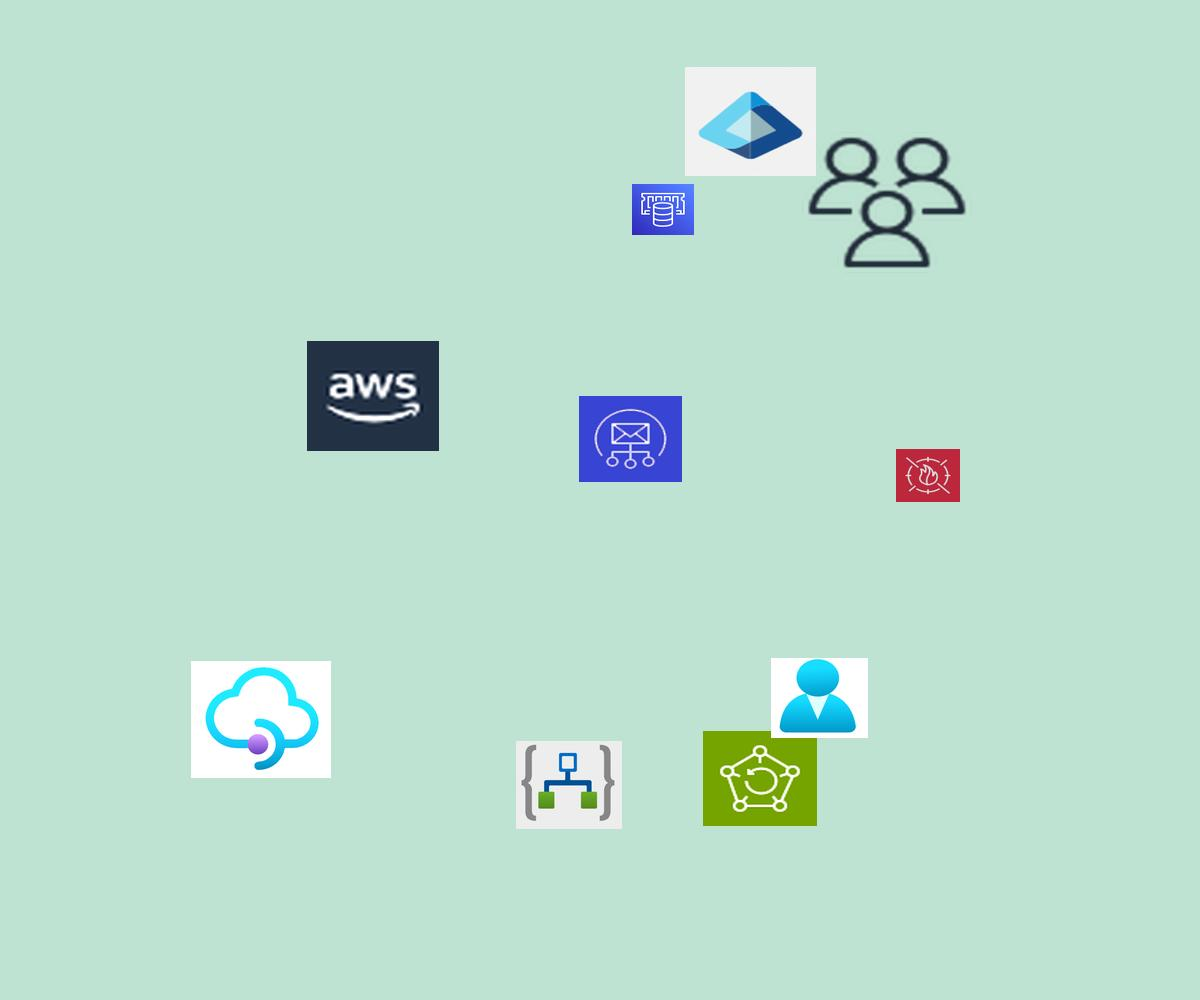AWS-Backup: (703, 731, 817, 826)
AWS-Cloud-logo: (307, 341, 439, 451)
AWS-ElastiCache: (632, 184, 694, 235)
AWS-Res_Users: (802, 132, 972, 273)
AWS-Simple-Email-Service: (579, 396, 682, 482)
AWS-WAF: (896, 449, 960, 502)
Azure_api_gateway: (191, 661, 331, 778)
Azure_integration-204-Logic-Apps: (516, 741, 622, 829)
Azure_microsoft_entra: (685, 67, 816, 176)
Azure_users: (771, 658, 868, 738)
